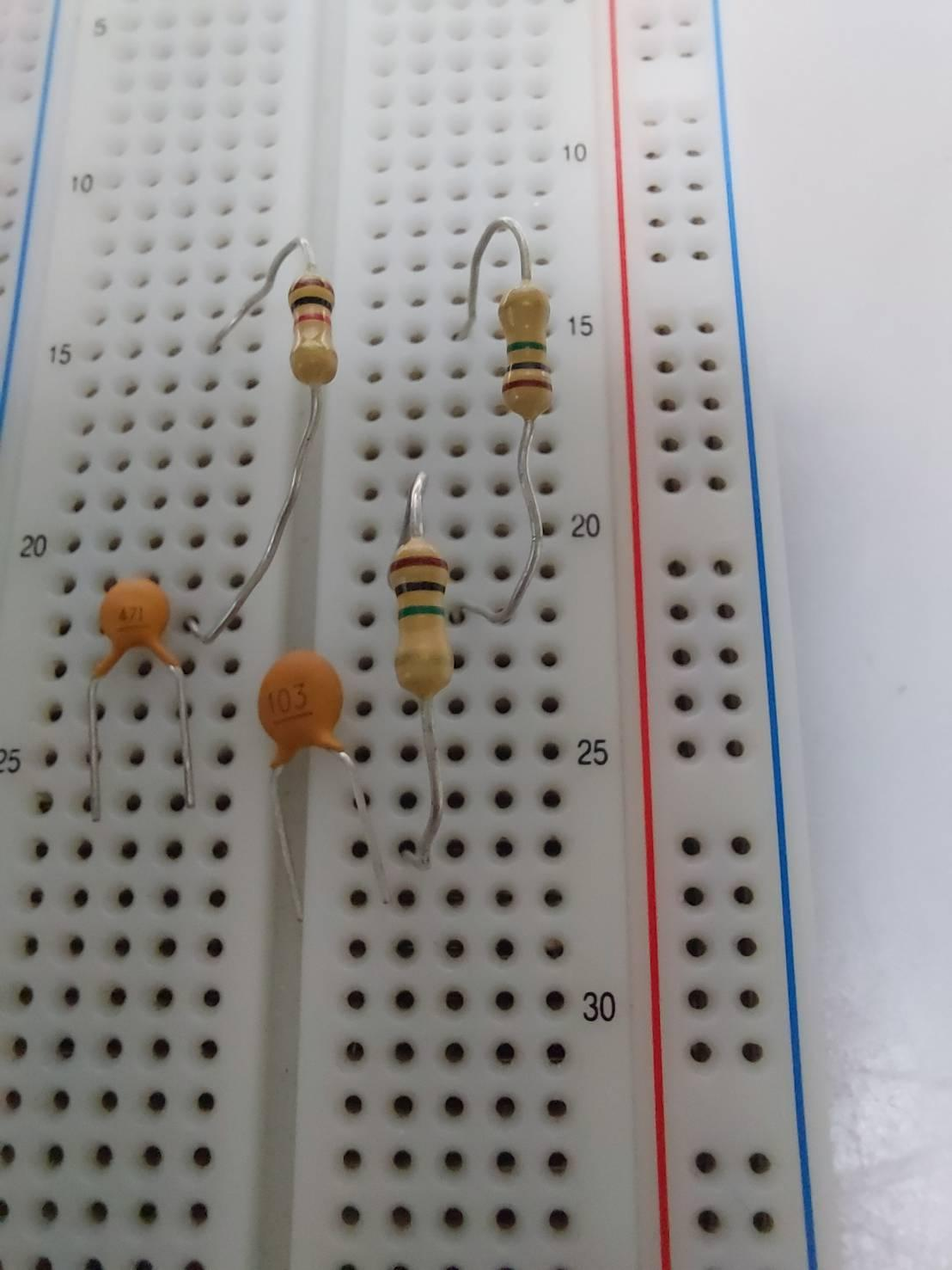resistor: (383, 538, 453, 693), (495, 285, 560, 418), (286, 267, 338, 384)
